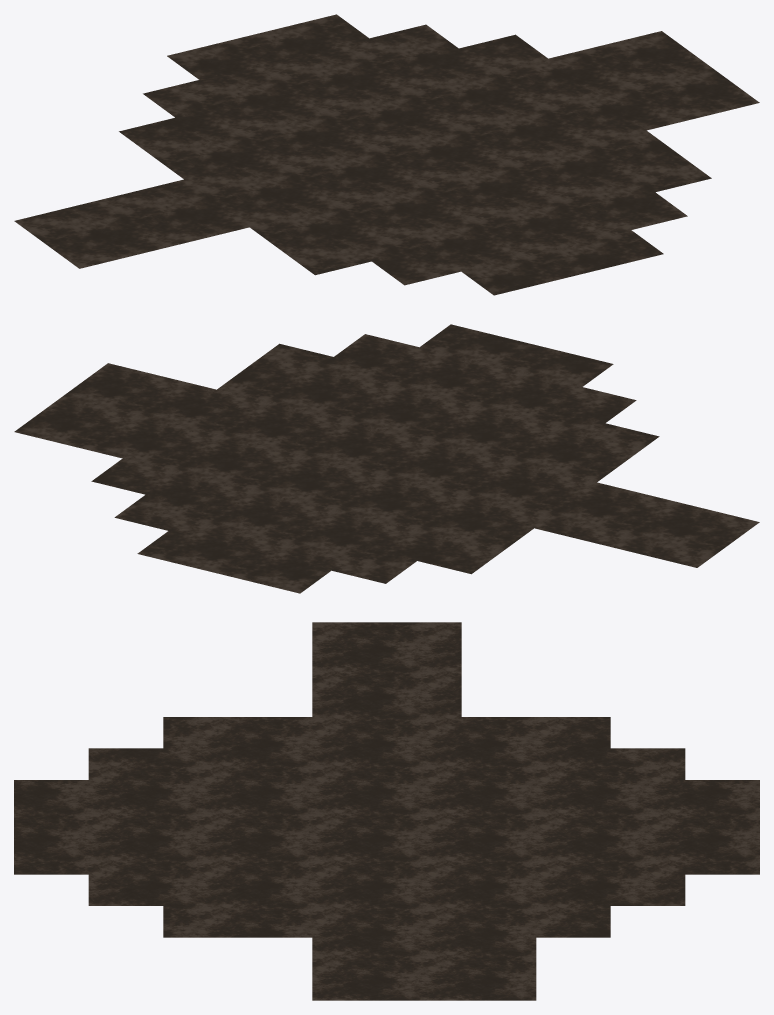
The model's file is floor_1_-10.glb.
3 views of the same model, one above another, from view 1: azimuth 30°, elevation 25°; view 2: azimuth 150°, elevation 25°; view 3: azimuth 270°, elevation 25° (orthographic). The views are drawn at different scales.
Visible parts, largest first — view 1: floor_1_-10; view 2: floor_1_-10; view 3: floor_1_-10.
Part boxes in pixels (x1,y1,x2,y2): floor_1_-10: (14,14,759,295); floor_1_-10: (14,324,759,593); floor_1_-10: (14,622,759,1000).
Size of the model in its own units: 48 by 0 by 40.
Materials: 1 (1 with a texture image).
